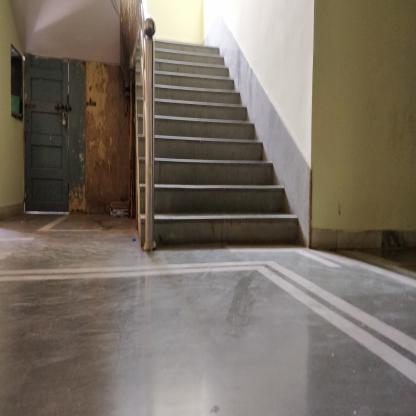stairs: (158, 48, 220, 254)
